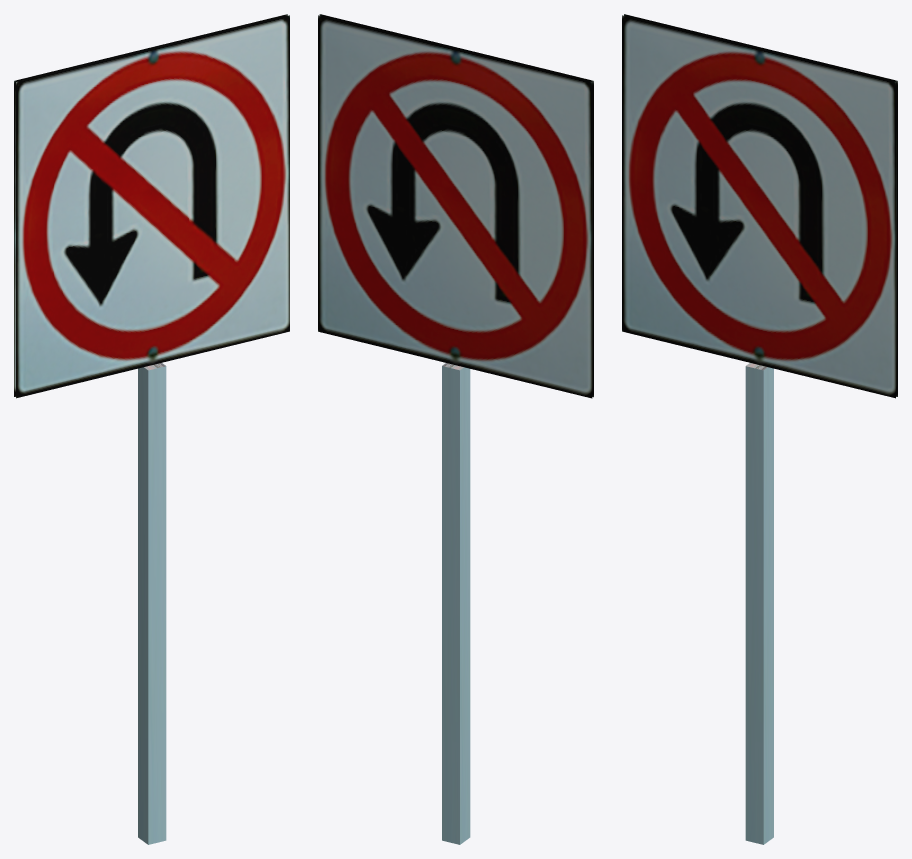
The model's file is sign02.FBX.
3 views of the same model, side by side, from view 1: azimuth 30°, elevation 25°; view 2: azimuth 150°, elevation 25°; view 3: azimuth 330°, elevation 25° (orthographic).
Parts seen in each view (by area): view 1: sign02-nouturn; view 2: sign02-nouturn; view 3: sign02-nouturn.
Part boxes in pixels (box(x1,y1,x2,y2)): sign02-nouturn: box(14, 14, 289, 844); sign02-nouturn: box(318, 14, 593, 844); sign02-nouturn: box(622, 14, 897, 844).
Size of what is drawn, in the model's own units: 0.9066 by 0.06 by 2.5.
